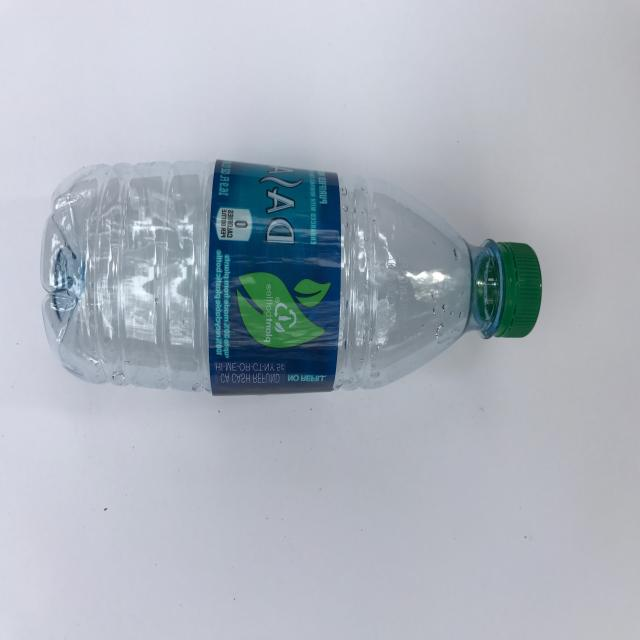plastic: (40, 158, 542, 395)
